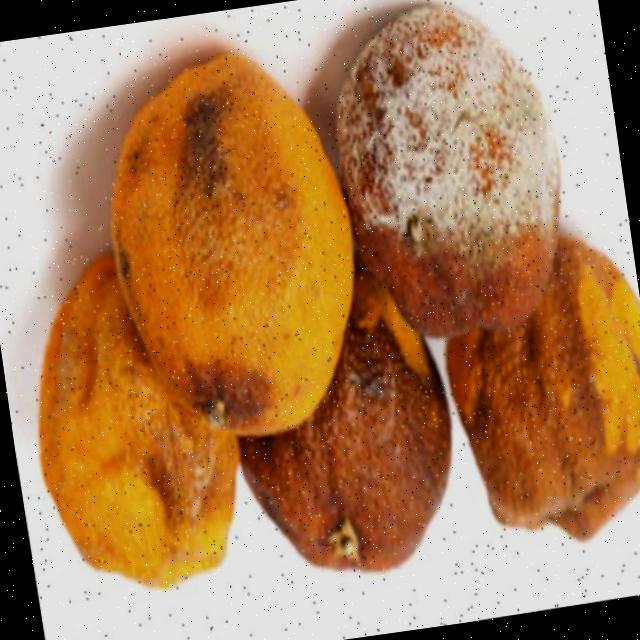rotten orange: (86, 37, 380, 454), (315, 0, 582, 350), (12, 239, 255, 603), (214, 257, 470, 589), (428, 223, 640, 554)
